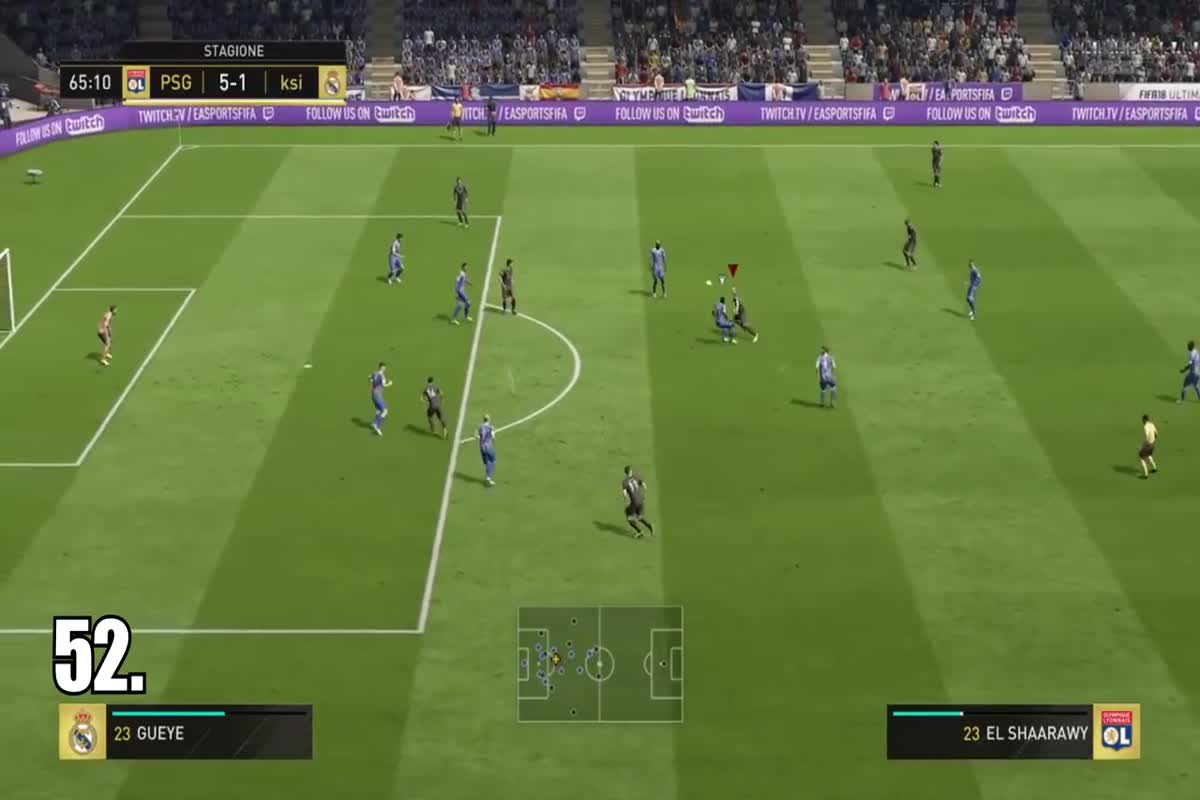ball: (697, 270, 719, 292)
